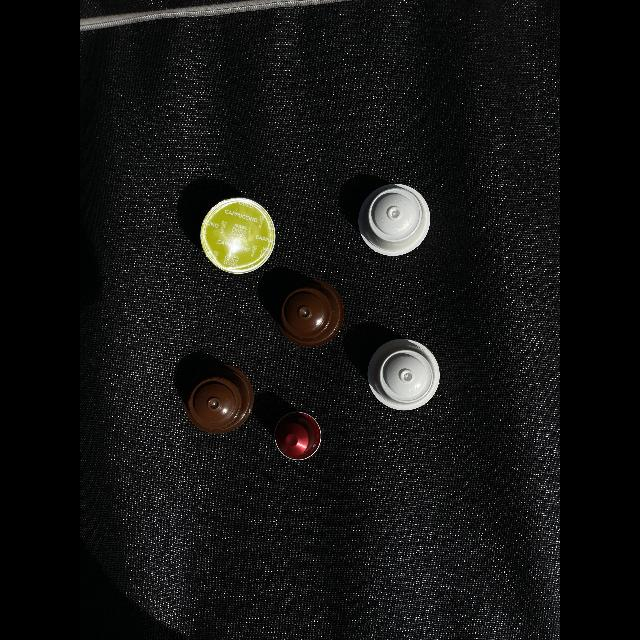intact_capsule: (350, 166, 444, 264), (193, 186, 283, 282), (172, 351, 262, 447), (361, 326, 455, 414), (264, 269, 352, 355), (260, 399, 330, 469)
